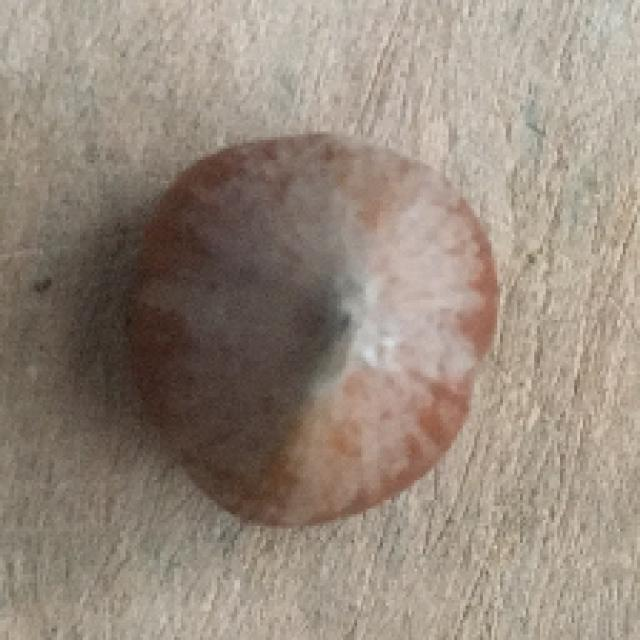qualityHazelnut: (127, 138, 500, 530)
